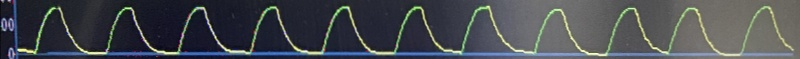normal_volume: (15, 0, 800, 59)
